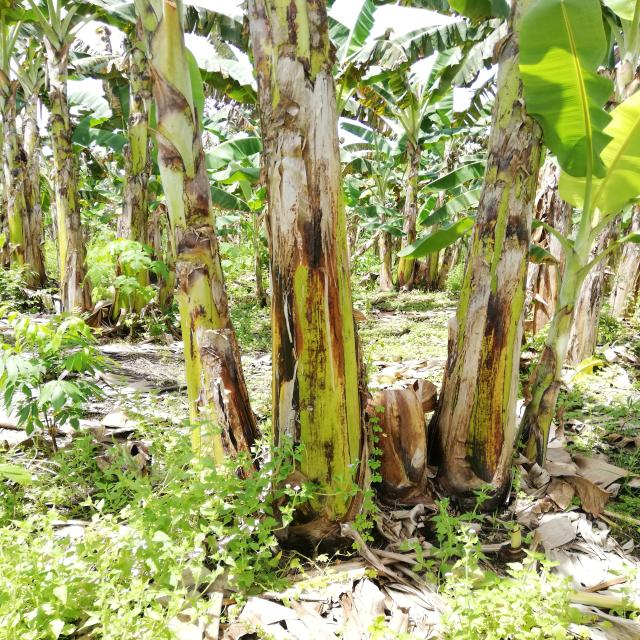Banana-plant: (105, 0, 272, 557), (237, 0, 397, 562), (409, 0, 547, 499), (24, 36, 106, 342), (114, 12, 159, 321), (7, 104, 41, 295)
